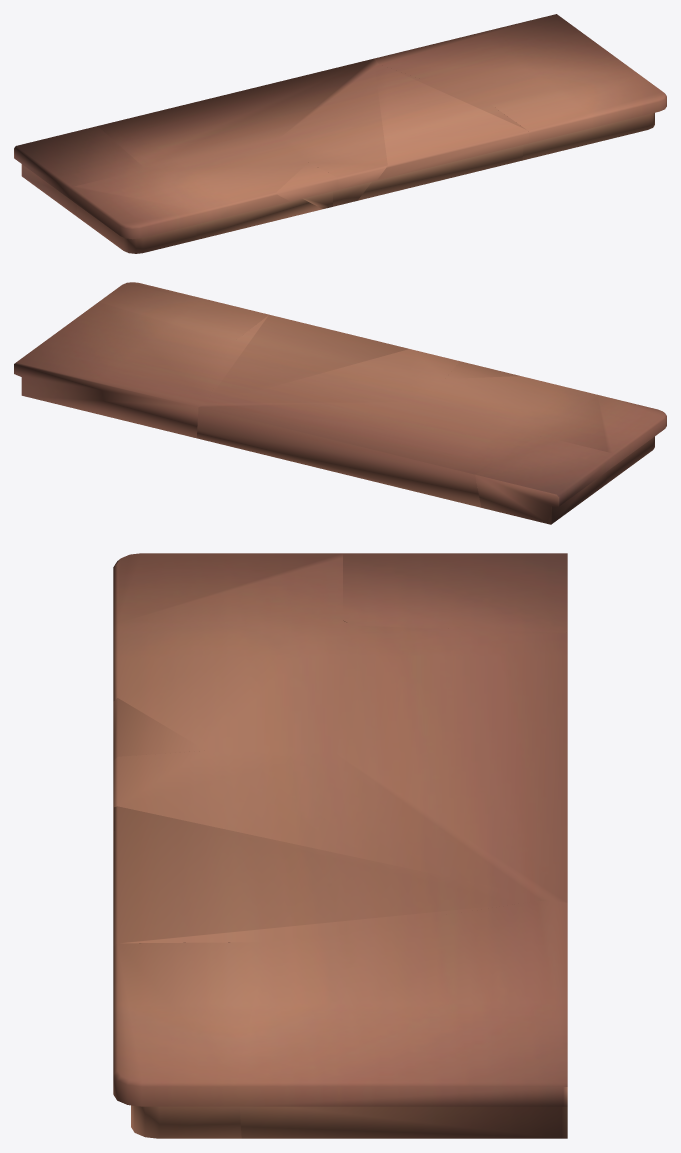
The model's file is Front.fbx.
3 renders of one model, top to bottom at view 1: azimuth 30°, elevation 25°; view 2: azimuth 150°, elevation 25°; view 3: azimuth 270°, elevation 25°, orthographic. The views are drawn at different scales.
Visible parts, largest first — view 1: Front_cell.010, Front_cell.006, Front_cell.008, Front_cell.003, Front_cell.004, Front_cell.009, Front_cell.002, Front_cell.001, Front_cell.005; view 2: Front_cell.008, Front_cell.010, Front_cell.006, Front_cell.001, Front_cell.009, Front_cell.003, Front_cell.002, Front_cell.004, Front_cell.005; view 3: Front_cell.010, Front_cell.008, Front_cell.006, Front_cell.003, Front_cell.009, Front_cell.004, Front_cell.001, Front_cell.002, Front_cell.005.
Part boxes in pixels (<box>): Front_cell.010: <box>374,14,638,103</box>; Front_cell.006: <box>358,64,528,200</box>; Front_cell.008: <box>98,58,377,166</box>; Front_cell.003: <box>141,139,322,239</box>; Front_cell.004: <box>490,74,666,160</box>; Front_cell.009: <box>278,66,387,206</box>; Front_cell.002: <box>69,170,201,253</box>; Front_cell.001: <box>14,126,143,216</box>; Front_cell.005: <box>276,163,338,208</box>; Front_cell.008: <box>197,402,535,507</box>; Front_cell.010: <box>14,302,233,438</box>; Front_cell.006: <box>207,314,408,402</box>; Front_cell.001: <box>475,436,614,524</box>; Front_cell.009: <box>215,349,459,402</box>; Front_cell.003: <box>412,376,596,436</box>; Front_cell.002: <box>544,394,666,484</box>; Front_cell.004: <box>99,282,268,341</box>; Front_cell.005: <box>445,361,519,378</box>; Front_cell.010: <box>236,900,567,1138</box>; Front_cell.008: <box>333,625,567,902</box>; Front_cell.006: <box>113,806,540,946</box>; Front_cell.003: <box>113,620,352,751</box>; Front_cell.009: <box>113,750,532,894</box>; Front_cell.004: <box>113,942,266,1138</box>; Front_cell.001: <box>342,553,567,632</box>; Front_cell.002: <box>113,553,342,626</box>; Front_cell.005: <box>113,698,205,760</box>.
Size of the model in its own units: 1.98 by 5.49 by 0.3052.
